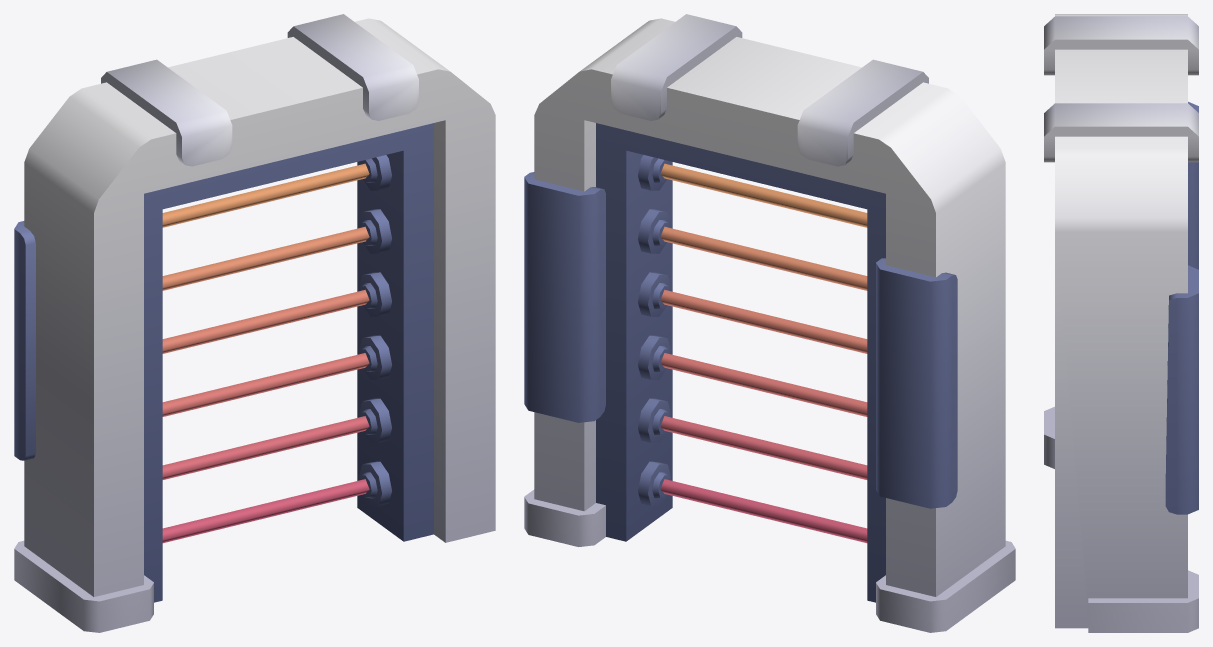
Rendered from kenney-space-gate-lasers.glb.
3 views of the same model, side by side, from view 1: azimuth 30°, elevation 25°; view 2: azimuth 150°, elevation 25°; view 3: azimuth 270°, elevation 25° (orthographic). The views are drawn at different scales.
Visible parts, largest first — view 1: gate-lasers, lasers, Group (×6); view 2: gate-lasers, lasers, Group (×6); view 3: gate-lasers.
Boxes of the visible parts, x1=… form: gate-lasers: x1=14, y1=14, x2=495, y2=632; lasers: x1=162, y1=163, x2=369, y2=543; Group (×6): x1=359, y1=155, x2=391, y2=506; gate-lasers: x1=524, y1=14, x2=1015, y2=632; lasers: x1=660, y1=163, x2=867, y2=543; Group (×6): x1=638, y1=155, x2=670, y2=506; gate-lasers: x1=1044, y1=14, x2=1198, y2=632.
Bounding box in the file's own units: 3.15 × 3.47 × 1.05.
Materials: 1 (1 with a texture image).
